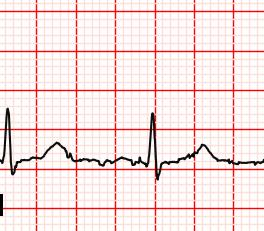ST Depression: (139, 153, 171, 184)
